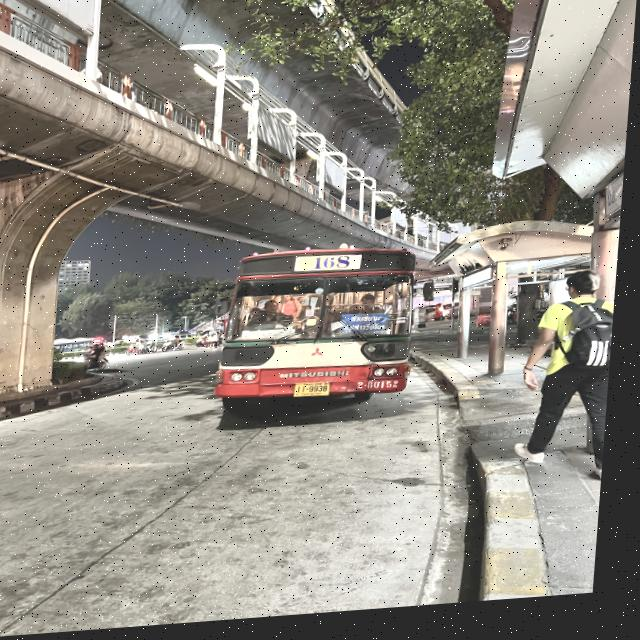BMTA-bus: (220, 247, 424, 419)
Bus-Line-Number: (313, 258, 359, 277)
Destination-Sign-Normal: (344, 318, 395, 343)
